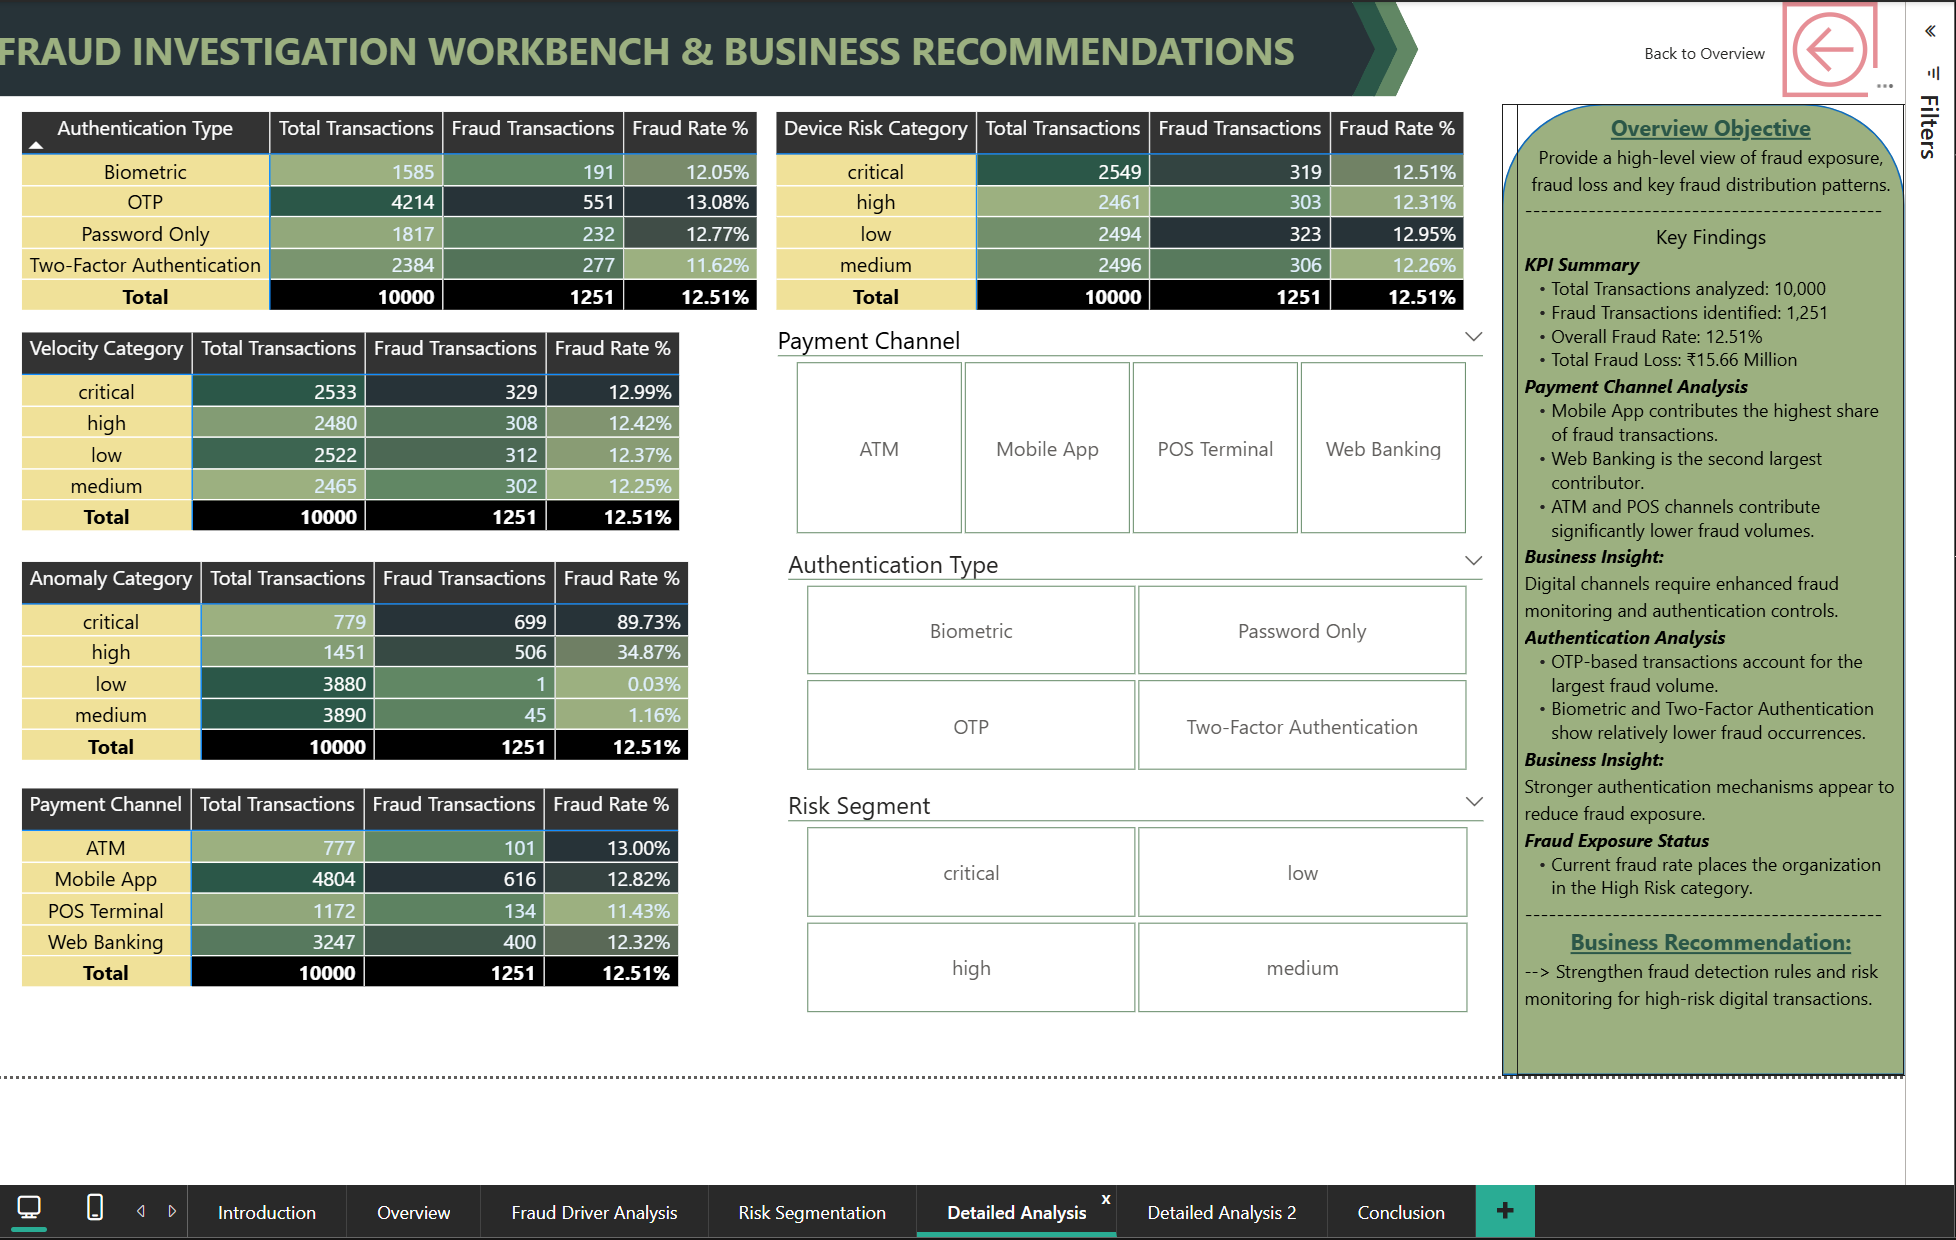

What the dashboard file says about the page in this screenshot:
{"tool":"powerbi","page":{"name":"Detailed Analysis","canvas":[1280,720],"ordinal":4},"visuals":[{"type":"shape","box":[1010,68.9,270,651.1],"z":0,"group":"g2"},{"type":"pivotTable","fields":{"Values":["banking_transactions.total transactions","banking_transactions.fraud transactions","banking_transactions.fraud rate %"],"Rows":["banking_transactions.payment_channel"]},"box":[12.1,522,505.6,162.7],"z":1000},{"type":"pivotTable","fields":{"Rows":["banking_transactions.authentication_type"],"Values":["banking_transactions.total transactions","banking_transactions.fraud transactions","banking_transactions.fraud rate %"]},"box":[12.1,68.4,505.9,154.9],"z":2000},{"type":"pivotTable","fields":{"Rows":["banking_transactions.Device Risk Category"],"Values":["banking_transactions.total transactions","banking_transactions.fraud transactions","banking_transactions.fraud rate %"]},"box":[518,68.4,498.9,145.8],"z":3000},{"type":"pivotTable","fields":{"Rows":["banking_transactions.Velocaity Category"],"Values":["banking_transactions.total transactions","banking_transactions.fraud transactions","banking_transactions.fraud rate %"]},"box":[12.1,216.6,505.6,160.5],"z":4000},{"type":"pivotTable","fields":{"Rows":["banking_transactions.Anomaly Category"],"Values":["banking_transactions.total transactions","banking_transactions.fraud transactions","banking_transactions.fraud rate %"]},"box":[12.1,370.4,499,158.3],"z":5000},{"type":"group","id":"g1","title":"Group 1","box":[0,0,953.8,63.4],"z":6000},{"type":"slicer","fields":{"Values":["banking_transactions.Payment Channel"]},"box":[510.9,210.2,498.9,152.9],"z":7000},{"type":"slicer","fields":{"Values":["banking_transactions.Authentication Type"]},"box":[518,360.1,491.8,161.9],"z":8000},{"type":"shape","box":[0,0,940.9,63.4],"z":9000,"group":"g1"},{"type":"slicer","fields":{"Values":["banking_transactions.Risk Segment"]},"box":[517.6,522,492.4,162.7],"z":9000},{"type":"shape","box":[923.3,0,30.5,63.4],"z":10000,"group":"g1"},{"type":"actionButton","box":[1198,0,63.7,63.7],"z":10000},{"type":"shape","box":[909.2,0,30.5,63.4],"z":11000,"group":"g1"},{"type":"textbox","box":[1100,17.8,100,30],"z":11000},{"type":"textbox","box":[1020,68.9,260,651.1],"z":12000,"group":"g2"},{"type":"group","id":"g2","title":"Group 2","box":[1010,68.9,270,651.1],"z":12001}]}

Visuals, with their boxes on the page's 1280x720 design canvas (x1, y1, x2, y2). These are canvas units, not pixel positions in the 1956x1240 screenshot, which may show the page scaled, cropped or inside an application window:
shape: l=1010, t=69, r=1280, b=720
pivotTable - banking_transactions.total transactions x banking_transactions.fraud transactions: l=12, t=522, r=518, b=685
pivotTable - banking_transactions.authentication_type x banking_transactions.total transactions: l=12, t=68, r=518, b=223
pivotTable - banking_transactions.Device Risk Category x banking_transactions.total transactions: l=518, t=68, r=1017, b=214
pivotTable - banking_transactions.Velocaity Category x banking_transactions.total transactions: l=12, t=217, r=518, b=377
pivotTable - banking_transactions.Anomaly Category x banking_transactions.total transactions: l=12, t=370, r=511, b=529
"Group 1" group: l=0, t=0, r=954, b=63
slicer - banking_transactions.Payment Channel: l=511, t=210, r=1010, b=363
slicer - banking_transactions.Authentication Type: l=518, t=360, r=1010, b=522
shape: l=0, t=0, r=941, b=63
slicer - banking_transactions.Risk Segment: l=518, t=522, r=1010, b=685
shape: l=923, t=0, r=954, b=63
actionButton: l=1198, t=0, r=1262, b=64
shape: l=909, t=0, r=940, b=63
textbox: l=1100, t=18, r=1200, b=48
textbox: l=1020, t=69, r=1280, b=720
"Group 2" group: l=1010, t=69, r=1280, b=720
